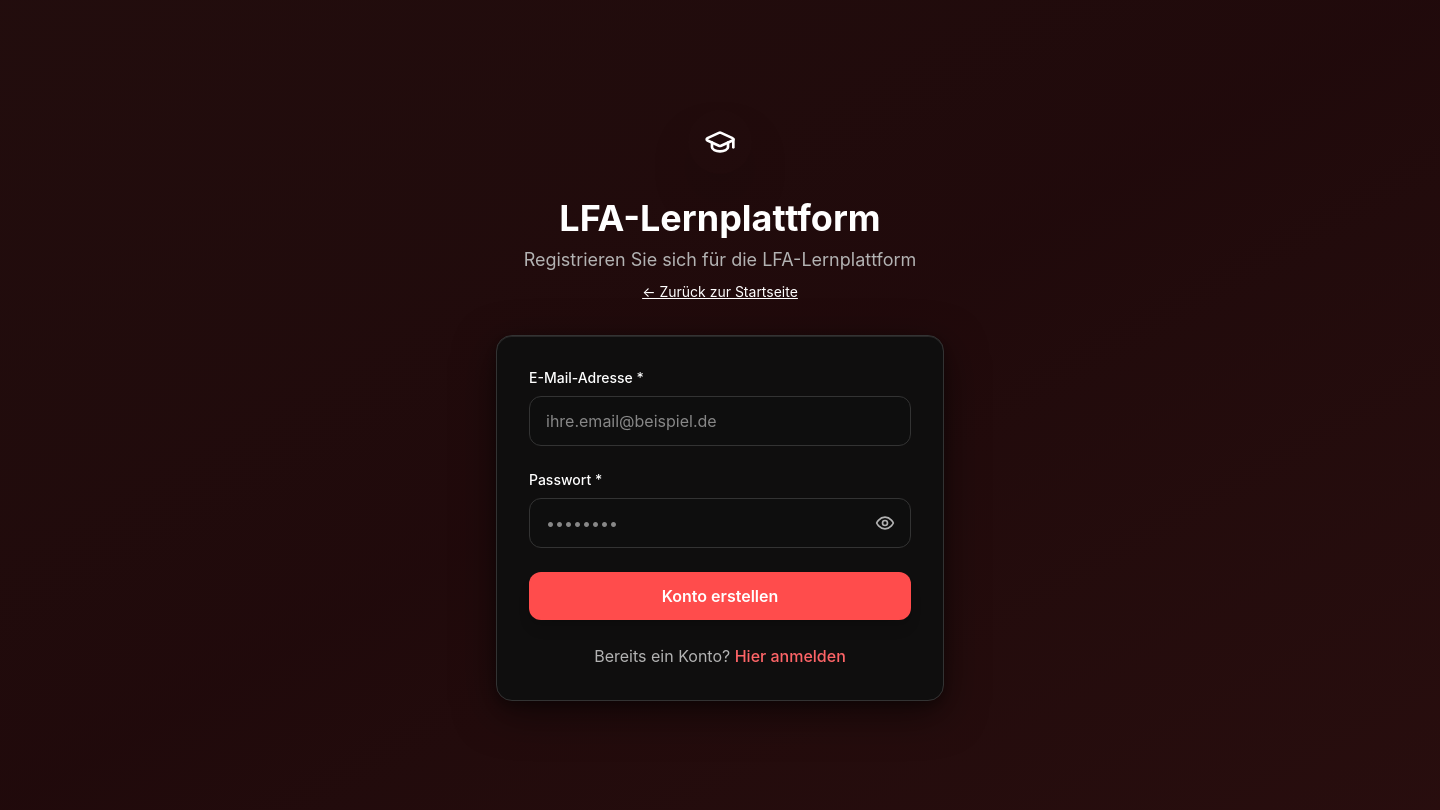
Test: RegisterPage › Confirm email on (confirmationRequired) › tells the person to confirm the address, names it, and says what follows
Step 1. Type "azubi@example.com" into the field labelled "E-Mail-Adresse *" → (720, 420), box [529,396,911,446]
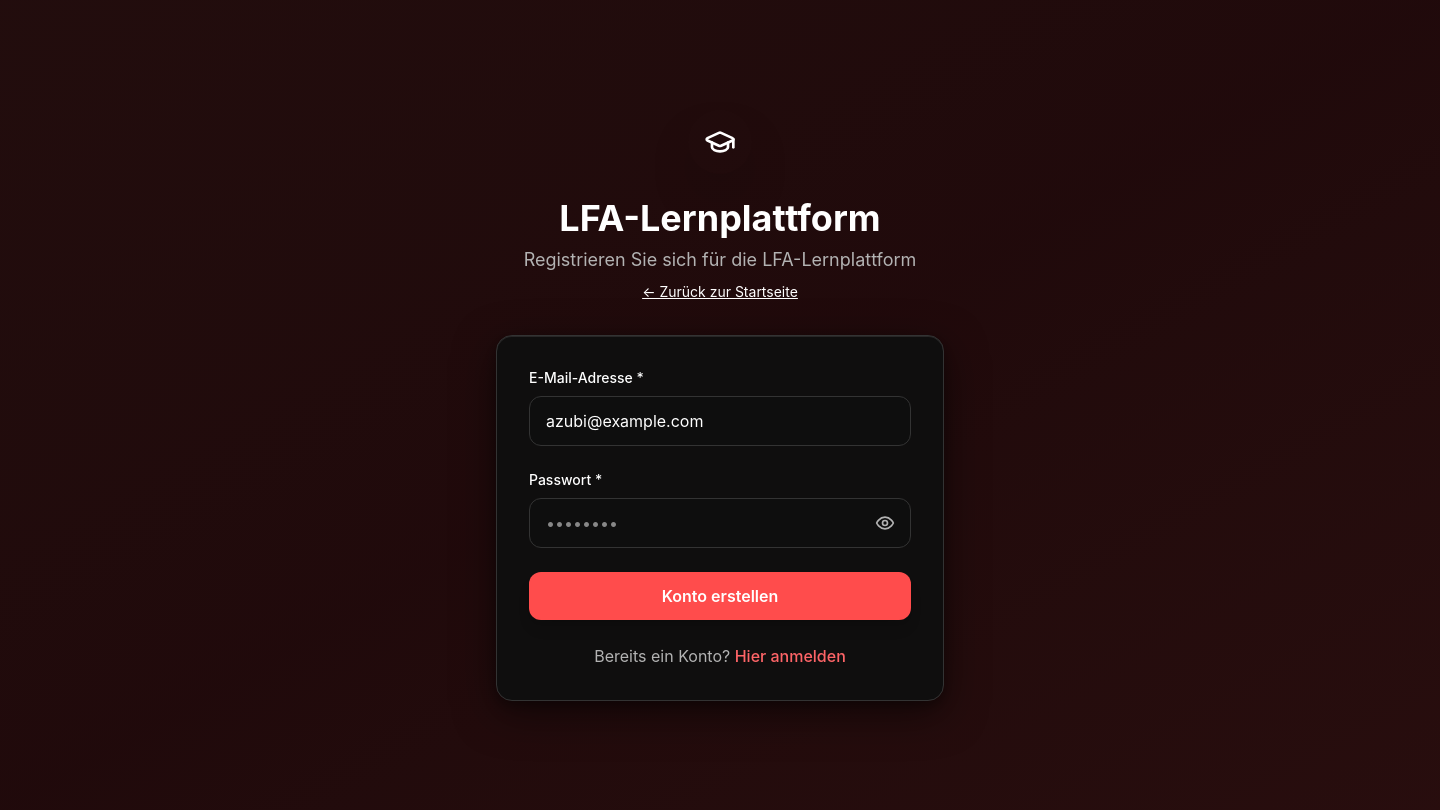
Step 2. Type "secret12" into the password field labelled "Passwort *" → (720, 522), box [529,498,911,548]
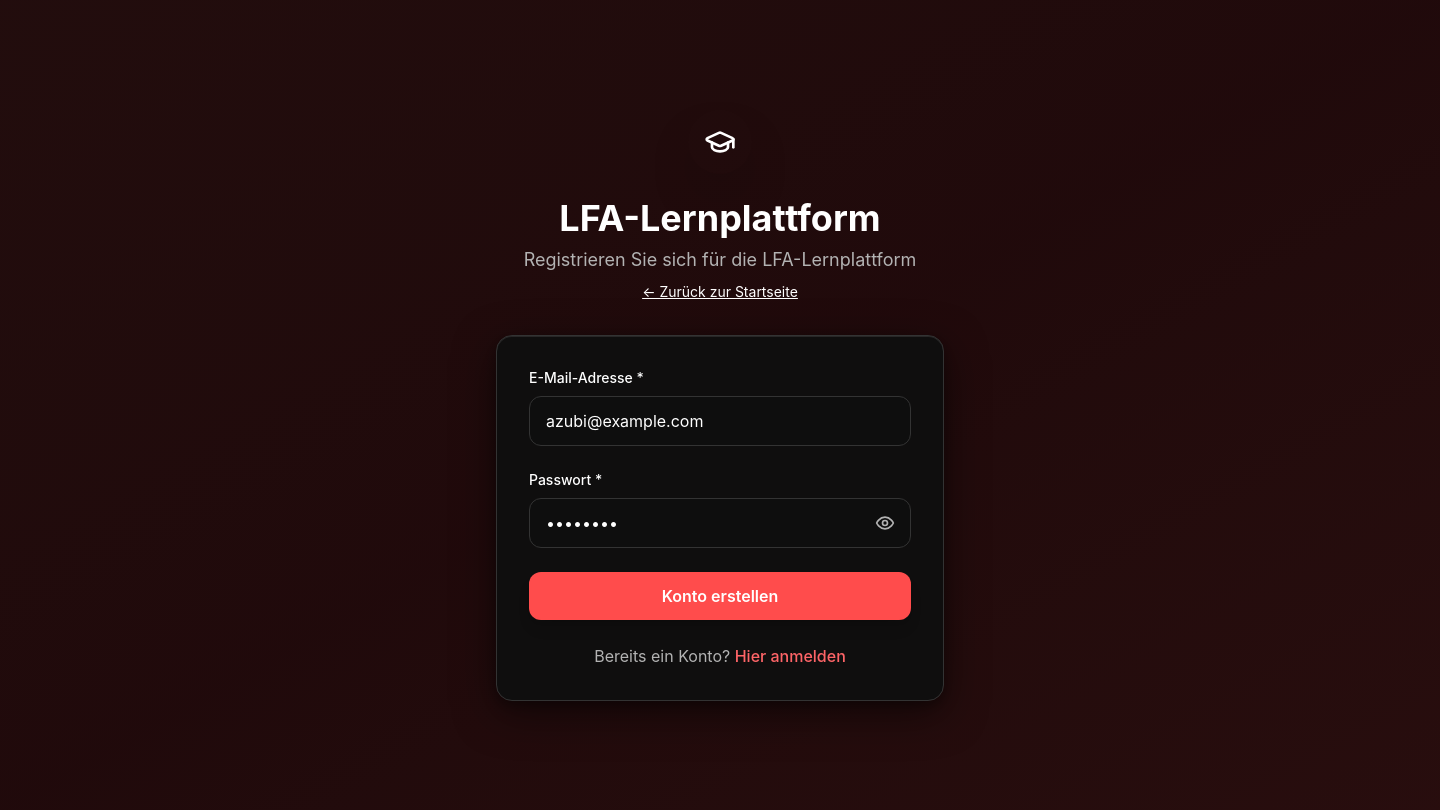
Step 3. Click the button "Konto erstellen" → (720, 596), box [529,572,911,620]
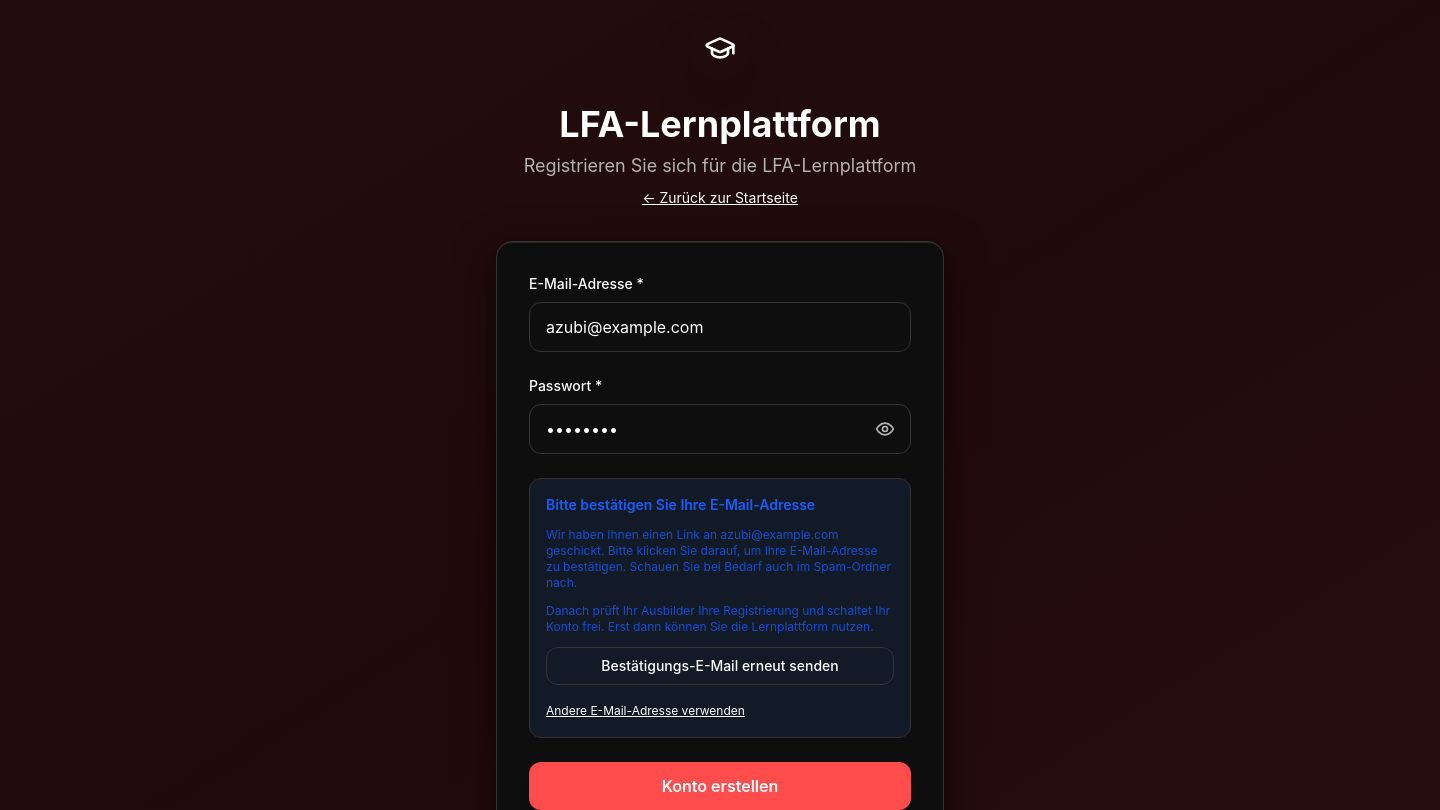
Expected: the message shows "Bitte bestätigen Sie Ihre E-Mail-Adresse", [546,496,815,513]
Expected: the message shows "Wir haben Ihnen einen Link an azubi@example.com geschickt.", [546,527,891,590]
Expected: the message shows "Danach prüft Ihr Ausbilder Ihre Registrierung und schaltet Ihr Konto frei.", [546,603,890,634]
